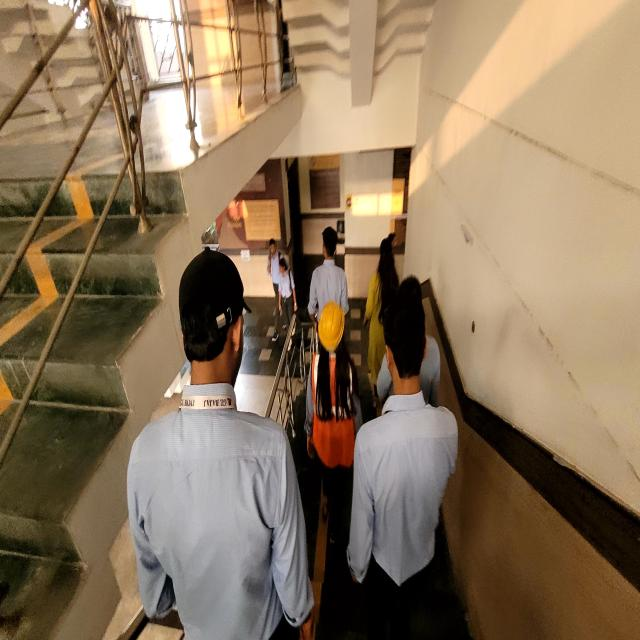safe: (304, 304, 354, 534)
unsafe: (124, 244, 298, 640), (352, 271, 458, 620), (274, 260, 296, 329)
